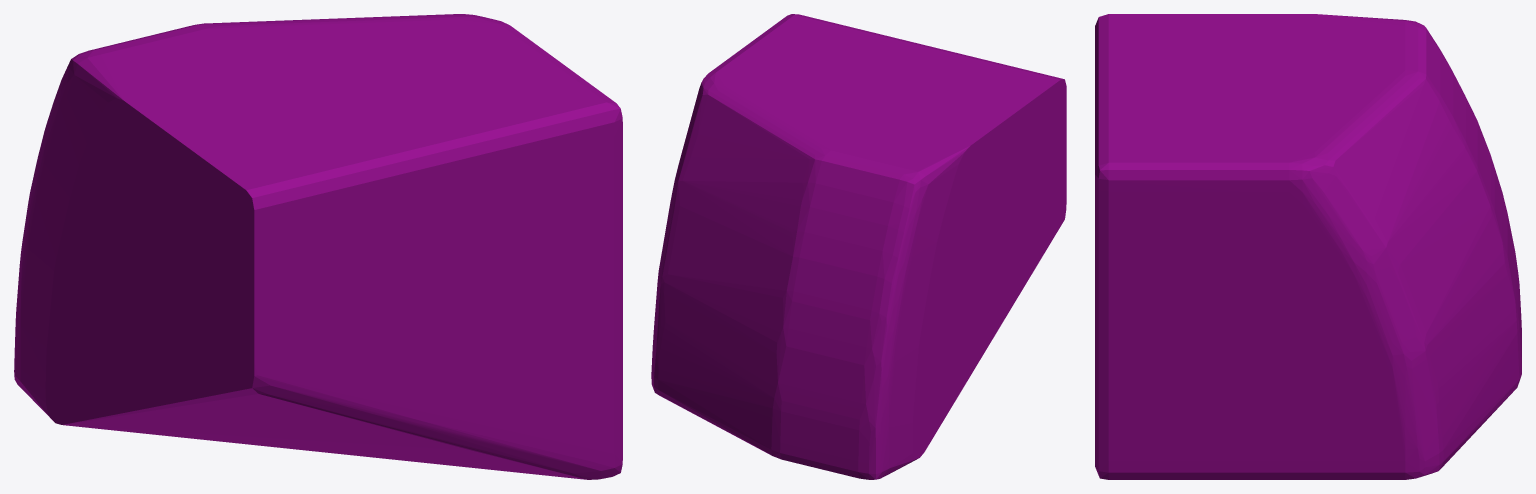
Rendered from left_hip_yaw_link_part_14.obj.
3 views of the same model, side by side, from view 1: azimuth 30°, elevation 25°; view 2: azimuth 150°, elevation 25°; view 3: azimuth 270°, elevation 25° (orthographic). The views are drawn at different scales.
Bounding box in the file's own units: 0.0349 × 0.0333 × 0.0407.
